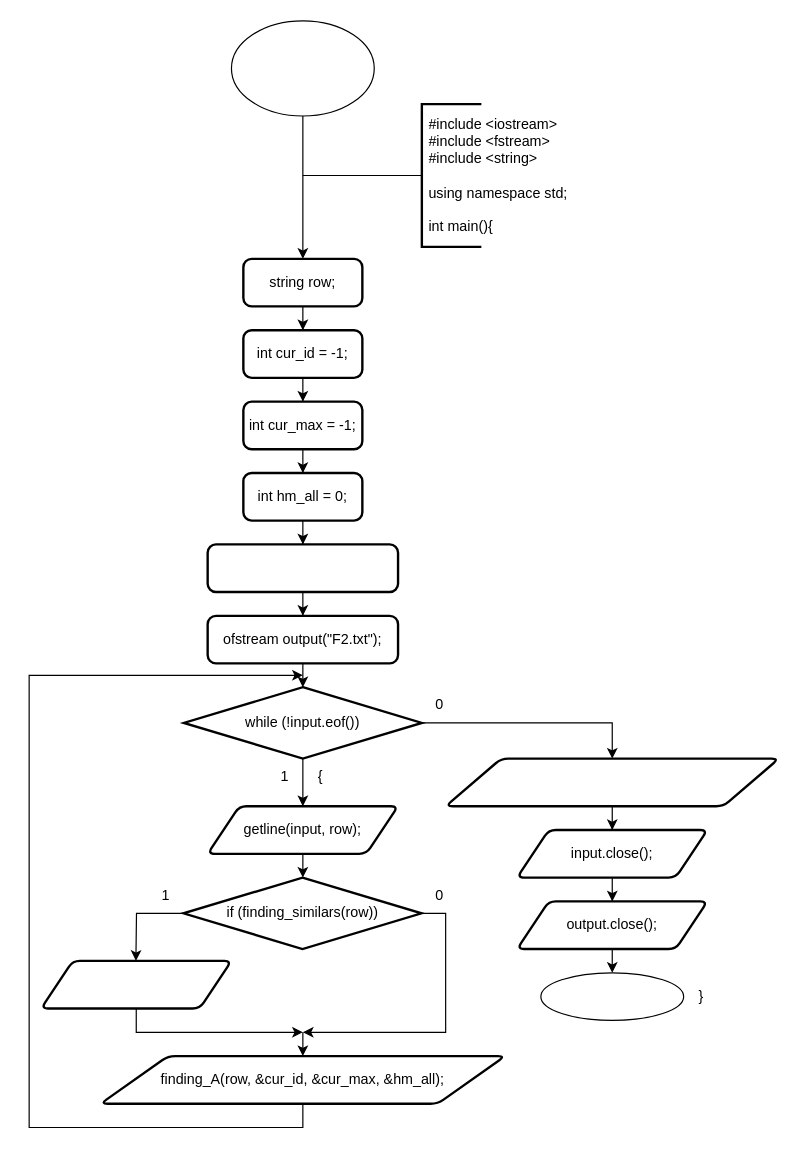
Image size: 801x1158. Some labels were removed from this diagram. The box of each missing label's shape, as (x1, y1, x2, y2) in pixels:
cout << "Index of word with most 'a': " << cur_id + 1 << endl;: (444, 757, 779, 807)
ifstream input("F1.txt");: (206, 543, 399, 593)
output << row << '\n';: (39, 959, 232, 1009)
return 0;: (540, 972, 684, 1020)
start: (230, 20, 374, 116)
